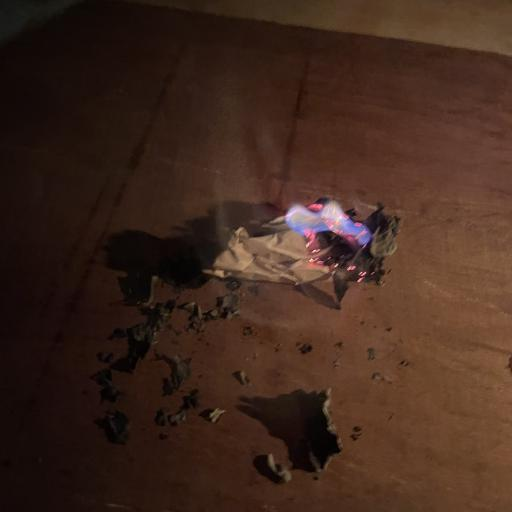fire: (285, 198, 385, 285)
